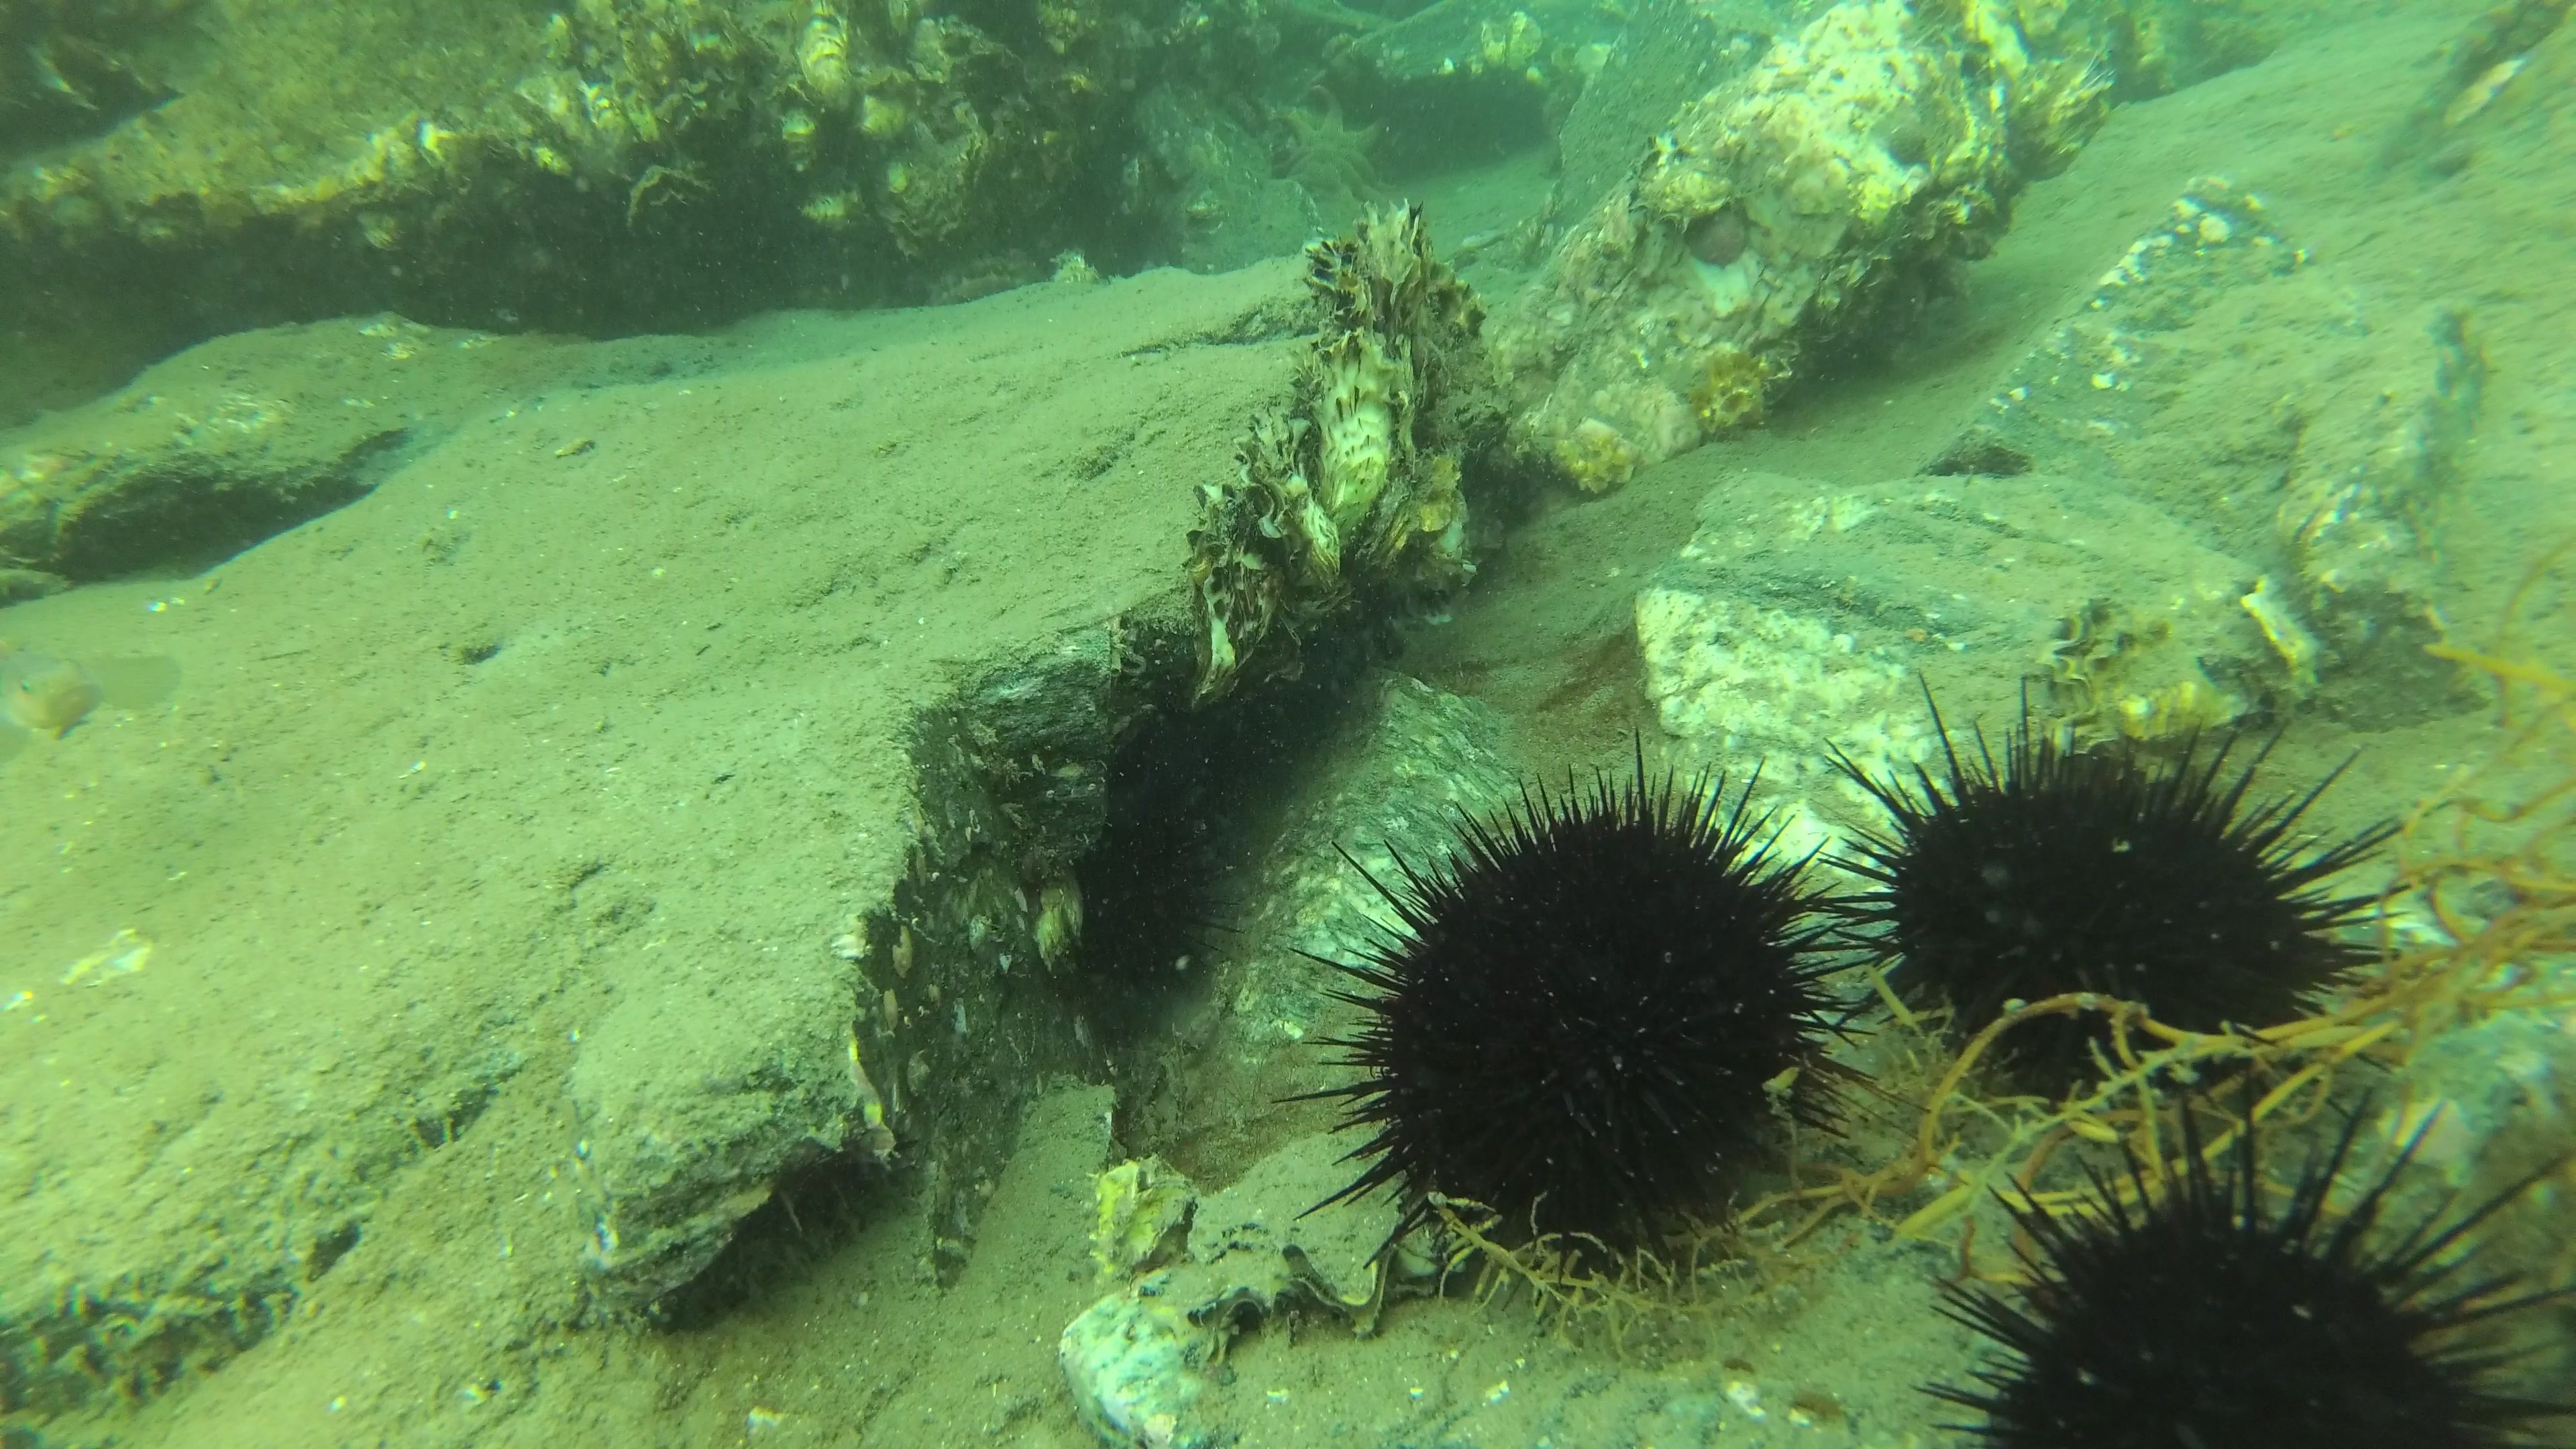echinus: (1292, 732, 1872, 1313), (1822, 671, 2419, 1145), (1918, 1077, 2576, 1449), (1060, 796, 1246, 1014)
